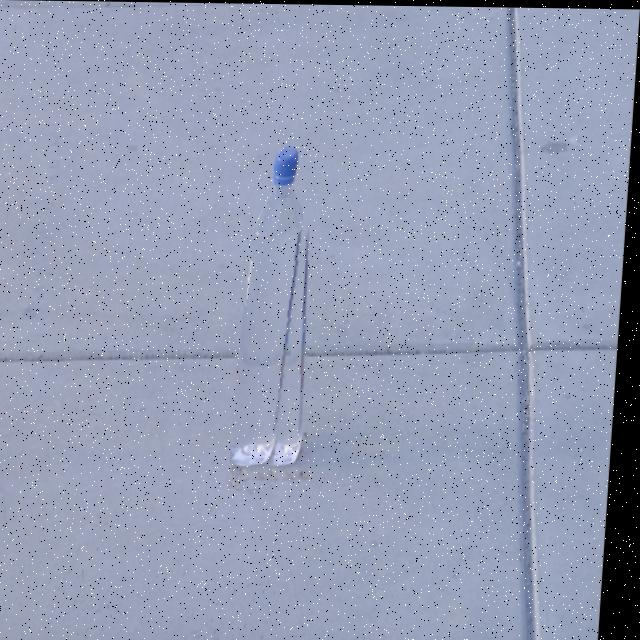litter: (235, 145, 325, 489)
